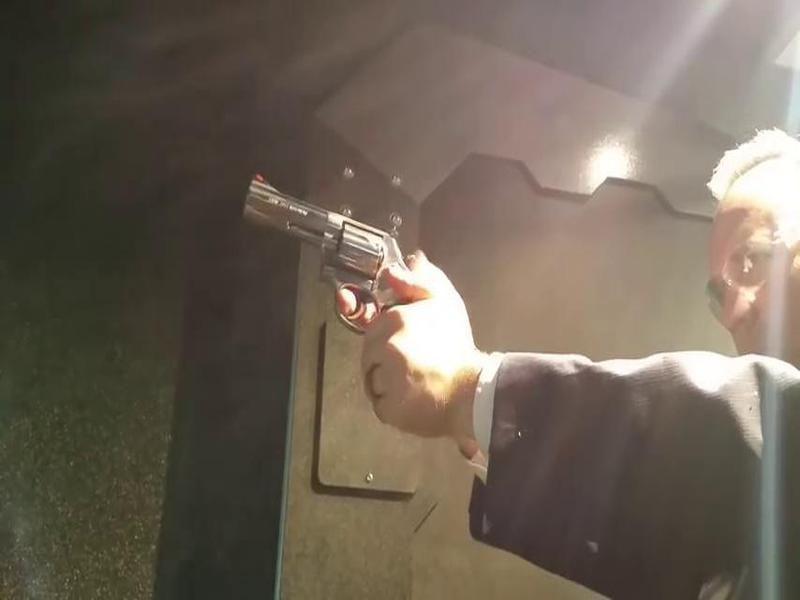Revolver: (234, 164, 459, 402)
